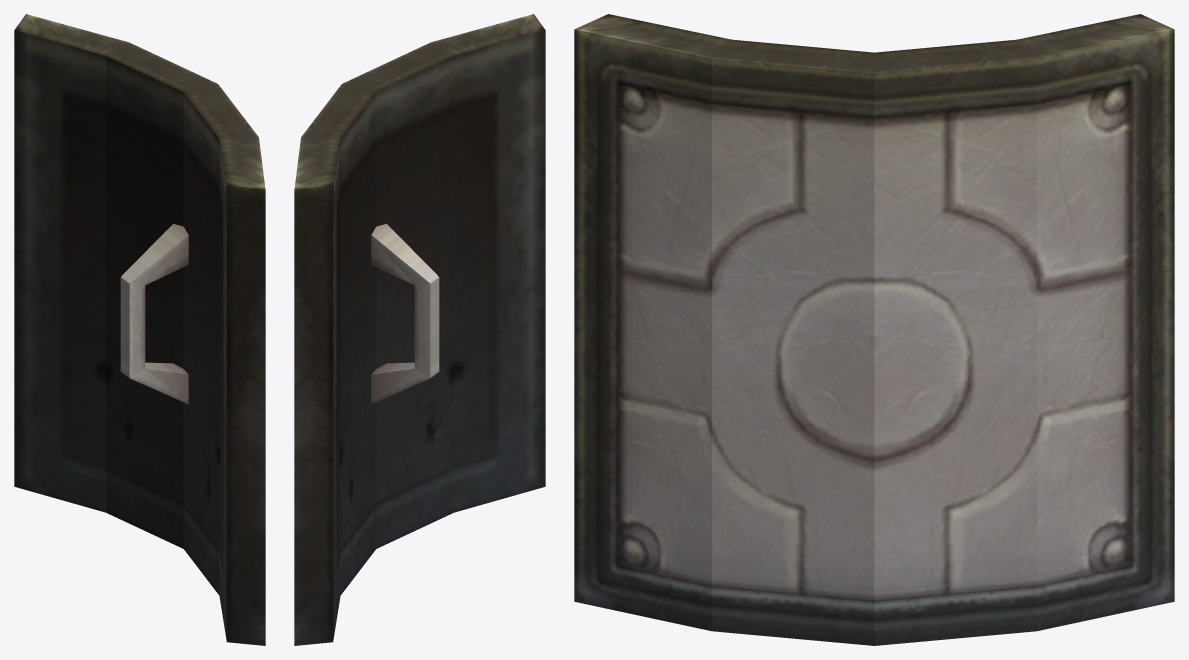
The model's file is Whale_partisanWeapon_Shield.obj.
The picture shows the model from 3 angles, left to right: view 1: azimuth 30°, elevation 25°; view 2: azimuth 150°, elevation 25°; view 3: azimuth 270°, elevation 25°; orthographic projection. The views are drawn at different scales.
Parts seen in each view (by area): view 1: Whale_partisanWeapon_tri [Shield]; view 2: Whale_partisanWeapon_tri [Shield]; view 3: Whale_partisanWeapon_tri [Shield].
Boxes of the visible parts, x1=… form: Whale_partisanWeapon_tri [Shield]: x1=14, y1=14, x2=265, y2=645; Whale_partisanWeapon_tri [Shield]: x1=294, y1=14, x2=545, y2=645; Whale_partisanWeapon_tri [Shield]: x1=574, y1=14, x2=1174, y2=645.
Size of the model in its own units: 0.2773 by 1.24 by 1.18.
1 material, 1 textured.
